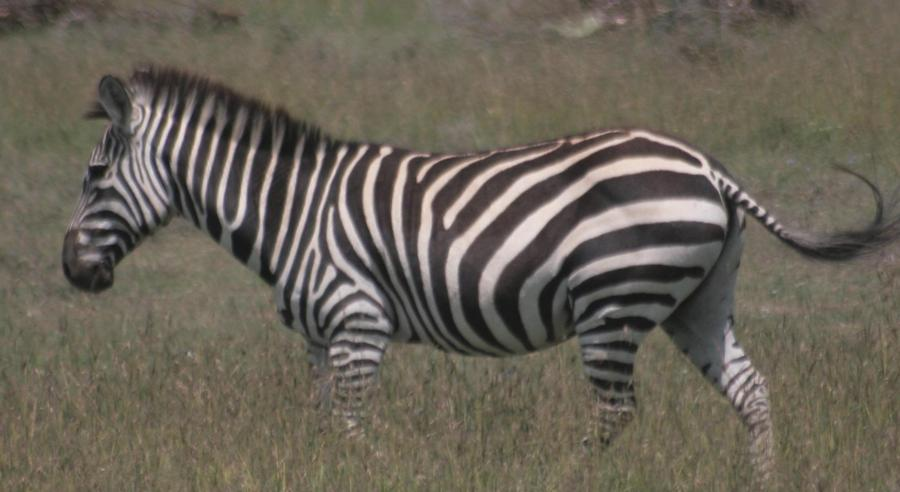zebra_plains: (244, 115, 687, 384)
